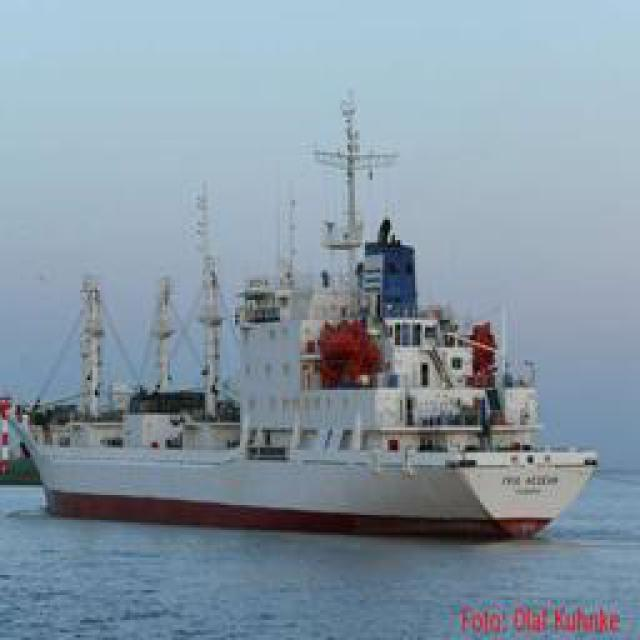Ship: (17, 79, 595, 544)
